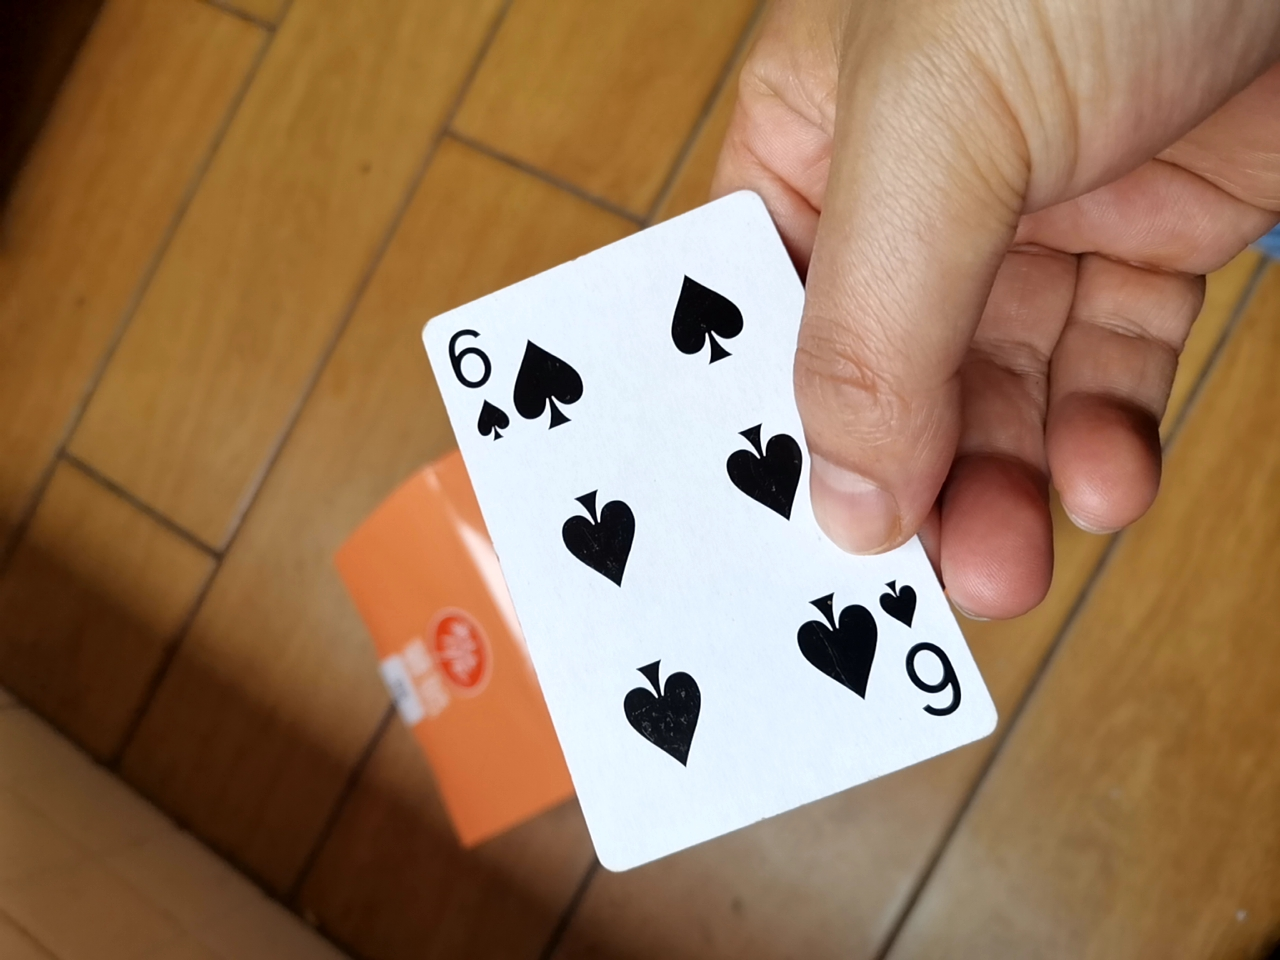ht 6: (400, 183, 980, 898)
